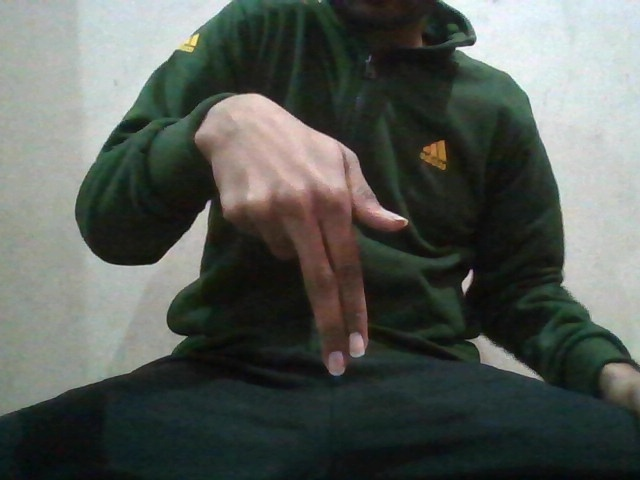Q: (217, 116, 414, 377)
